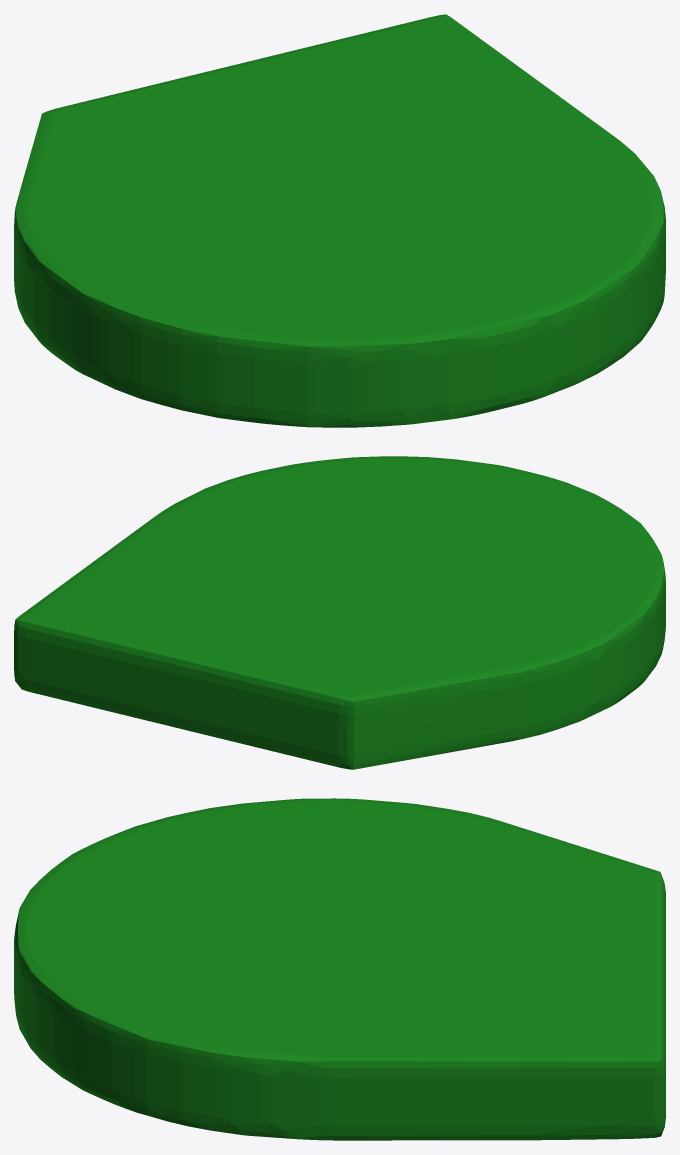
The model's file is right_hip_pitch_link_part_8.obj.
3 renders of one model, top to bottom at view 1: azimuth 30°, elevation 25°; view 2: azimuth 150°, elevation 25°; view 3: azimuth 270°, elevation 25°, orthographic. The views are drawn at different scales.
Bounding box in the file's own units: 0.1242 × 0.0179 × 0.129.
